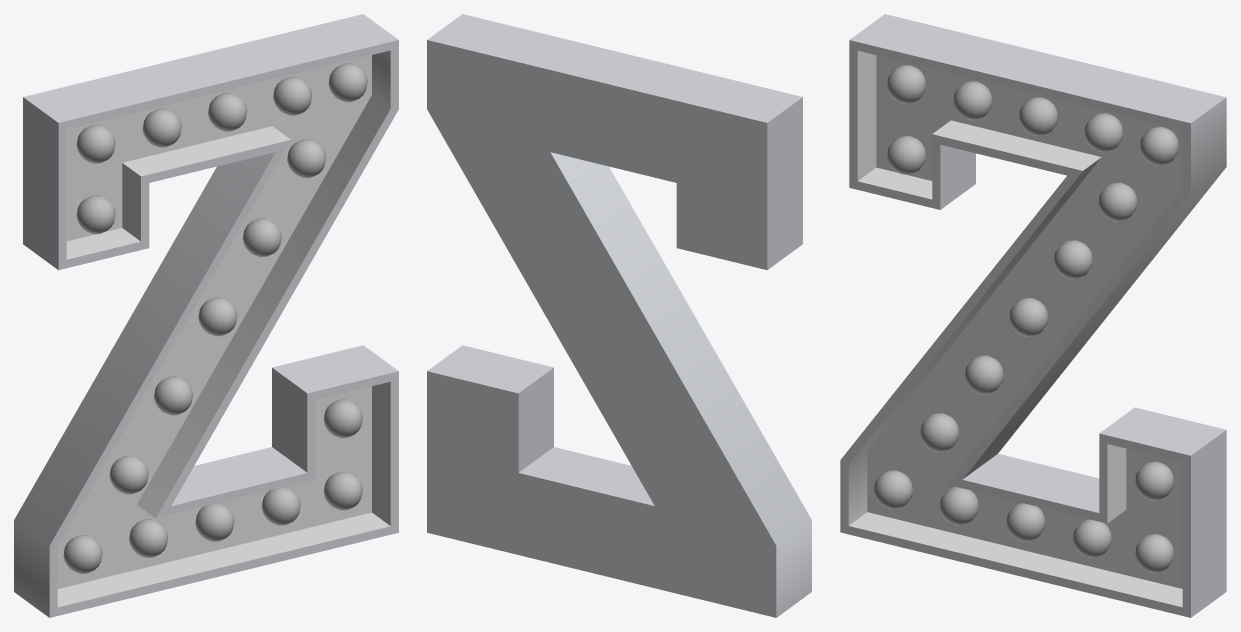
File: LettersBulb01_Z.FBX
3 views of the same model, side by side, from view 1: azimuth 30°, elevation 25°; view 2: azimuth 150°, elevation 25°; view 3: azimuth 330°, elevation 25° (orthographic).
Parts seen in each view (by area): view 1: LettersBulb01_Z; view 2: LettersBulb01_Z; view 3: LettersBulb01_Z.
Part boxes in pixels (x1,y1,x2,y2): LettersBulb01_Z: (14, 14, 398, 617); LettersBulb01_Z: (427, 14, 811, 617); LettersBulb01_Z: (840, 14, 1226, 617).
Size of what is drawn, in the model's own units: 0.8839 by 1.19 by 0.1563.
